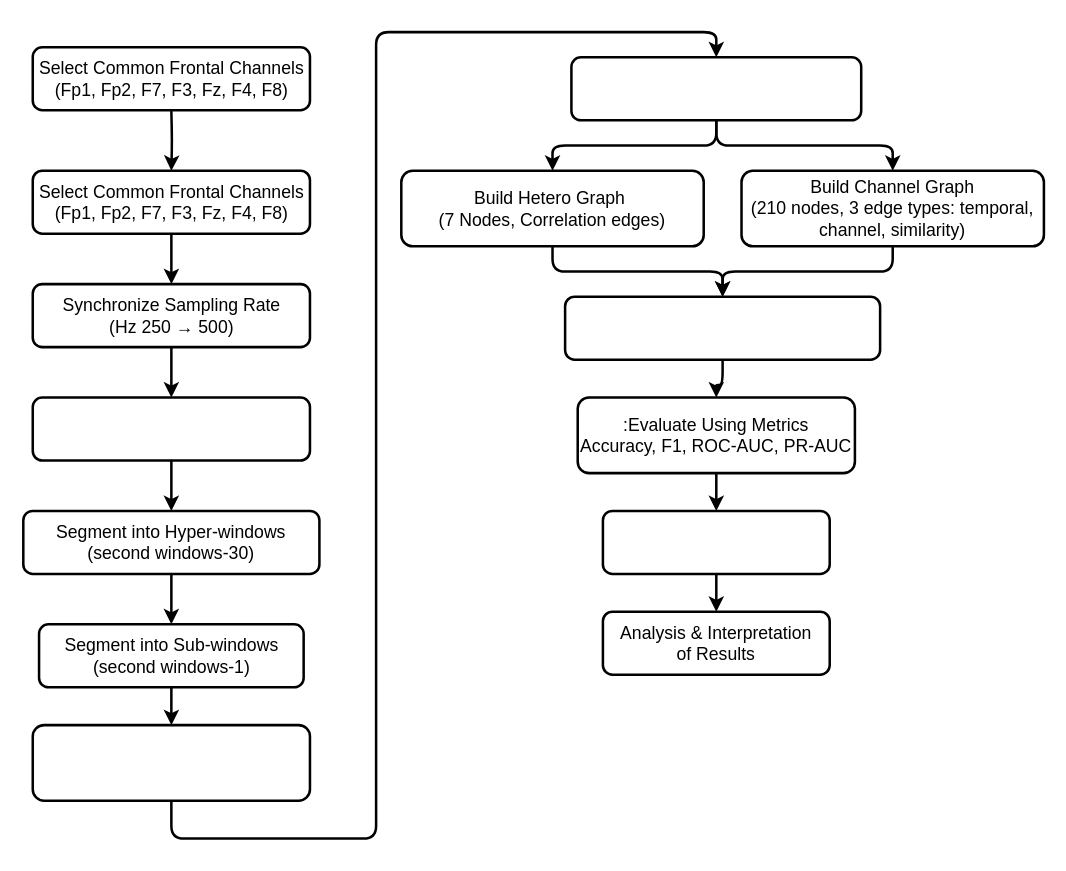
The diagram is 1066 pixels wide and 871 high, and some of its shapes have lost their labels. The shapes that lost their labels are listed below. From the top down, each one's centre as x and y in pixels, then its label:
pixel 716 88: Feature Scaling (RobustScaler)
pixel 722 327: Train GCN, GAT, RGCN, GAT-Hetero and Compare with LSTM Baseline
pixel 171 428: Z-score Normalization
pixel 715 542: Subgroup Evaluation by Sex
pixel 171 762: Extract Time & Frequency Features (19 features × 7 channels)
